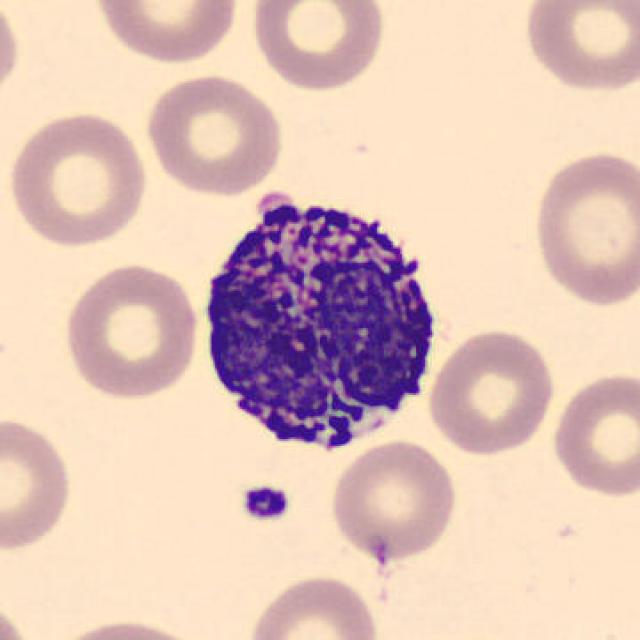Basophil: (190, 180, 452, 469)
Platelets: (236, 481, 294, 524)
RBC: (3, 107, 153, 250), (59, 259, 202, 402), (140, 70, 286, 198), (423, 324, 560, 458), (528, 145, 638, 310), (326, 436, 462, 564), (245, 0, 389, 93), (548, 366, 638, 501), (518, 0, 638, 97), (0, 410, 76, 555), (87, 0, 244, 67), (242, 571, 384, 640), (42, 613, 211, 640), (0, 2, 23, 108), (0, 594, 37, 640)
